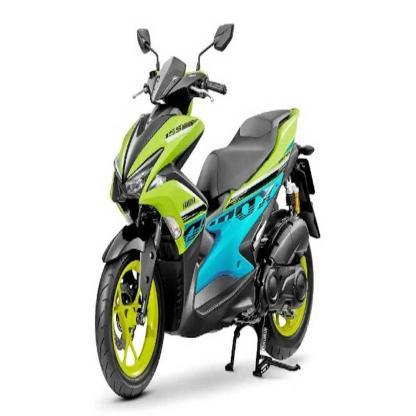Motorcycle: (85, 21, 320, 410)
